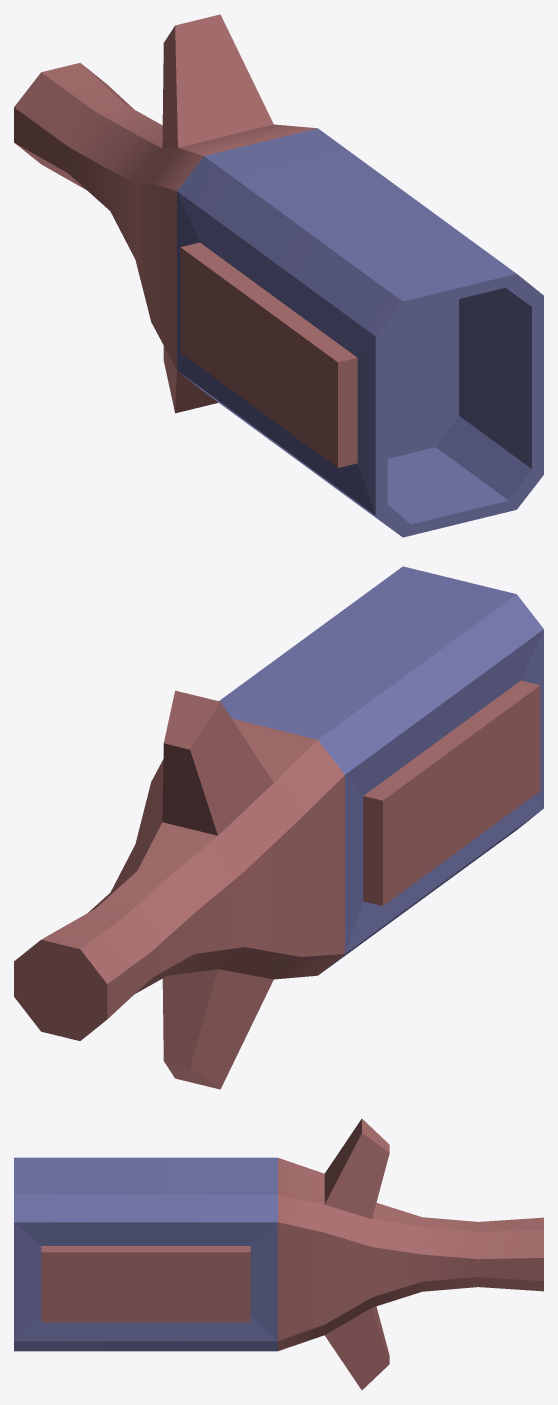
The model's file is BallGun.fbx.
3 renders of one model, top to bottom at view 1: azimuth 30°, elevation 25°; view 2: azimuth 150°, elevation 25°; view 3: azimuth 270°, elevation 25°, orthographic. The views are drawn at different scales.
Parts seen in each view (by area): view 1: pCube1; view 2: pCube1; view 3: pCube1.
Boxes of the visible parts, bbox=[...] form: pCube1: bbox=[14, 14, 543, 537]; pCube1: bbox=[14, 566, 543, 1089]; pCube1: bbox=[14, 1119, 543, 1389].
Bounding box in the file's own units: 1.72 × 3.16 × 5.89.
